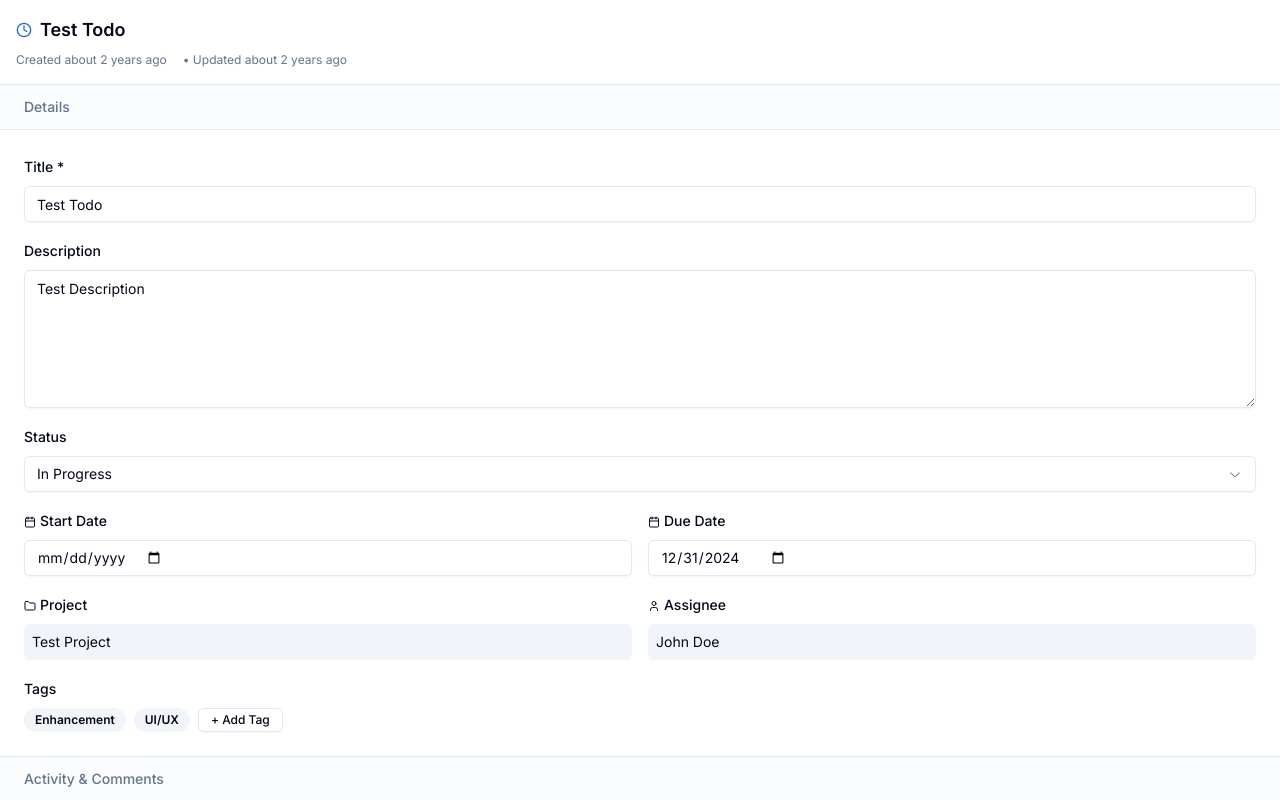
TodoDetailsPanelEnhanced › shows saving indicator when auto-saving
The width and height of the screenshot is (1280, 800).
Replace the text in the field labelled "Title *" with "Updated Title": {"x": 640, "y": 204} [24,186,1256,222]
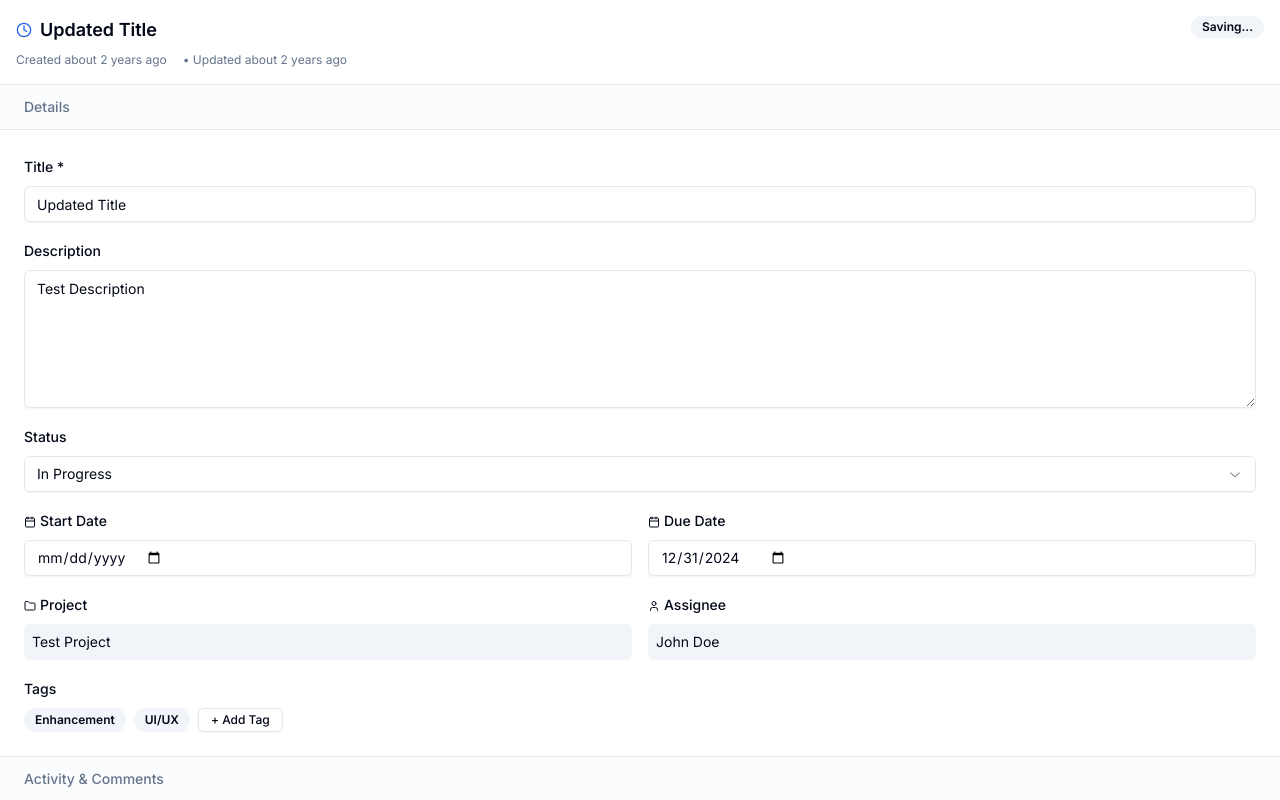
Now the text "Saving..." is shown, box [1191,16,1264,38]
